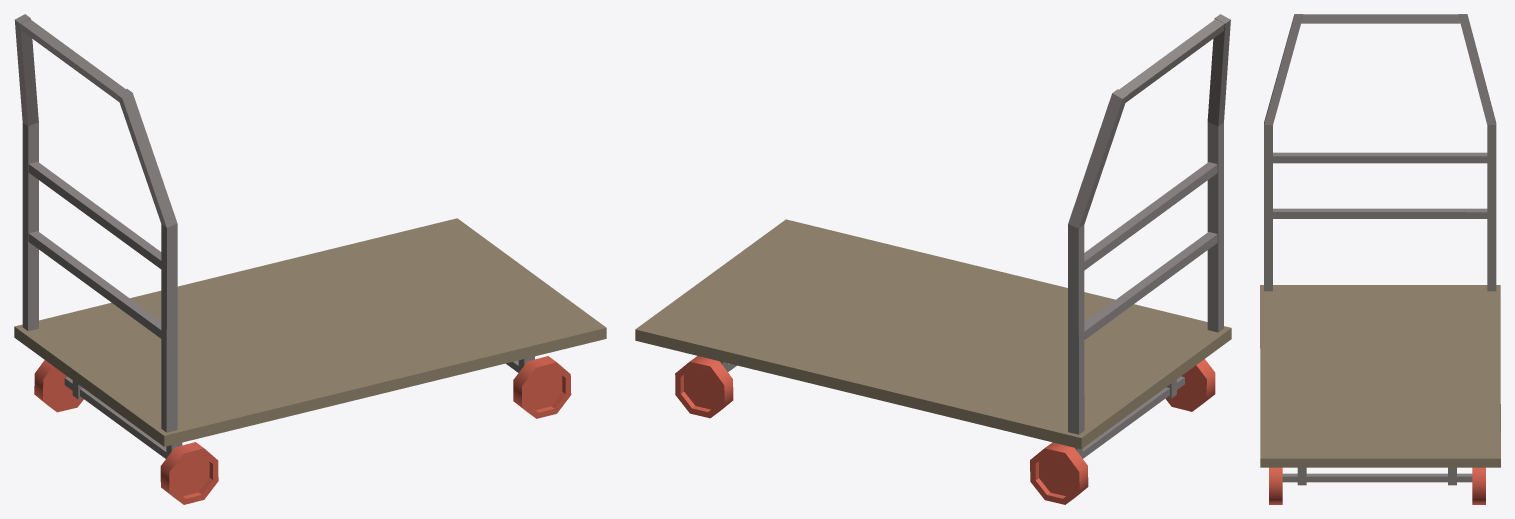
The model's file is SM_Gurney_02.fbx.
The picture shows the model from 3 angles, left to right: view 1: azimuth 30°, elevation 25°; view 2: azimuth 150°, elevation 25°; view 3: azimuth 270°, elevation 25°; orthographic projection. The views are drawn at different scales.
Visible parts, largest first — view 1: SM_Gurney_02; view 2: SM_Gurney_02; view 3: SM_Gurney_02.
Boxes of the visible parts, x1,y1,x2,y2 form: SM_Gurney_02: [14, 14, 606, 504]; SM_Gurney_02: [635, 14, 1231, 504]; SM_Gurney_02: [1260, 14, 1500, 504].
Size of the model in its own units: 166 by 140 by 92.73.
